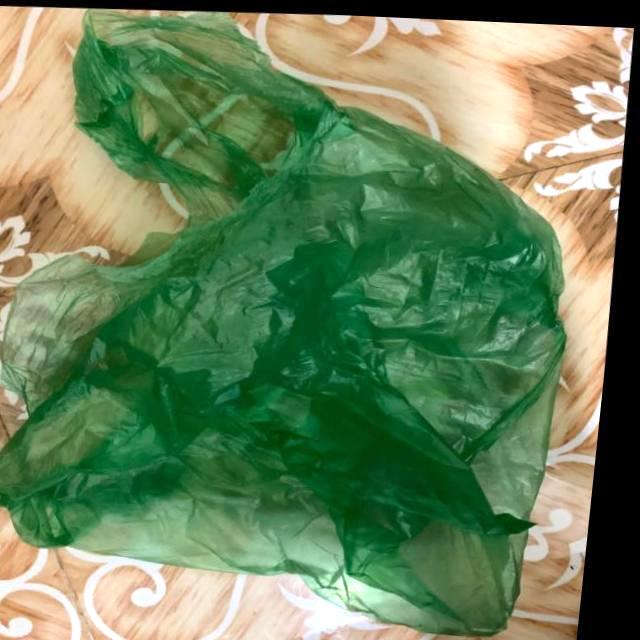polythene: (148, 141, 464, 552)
